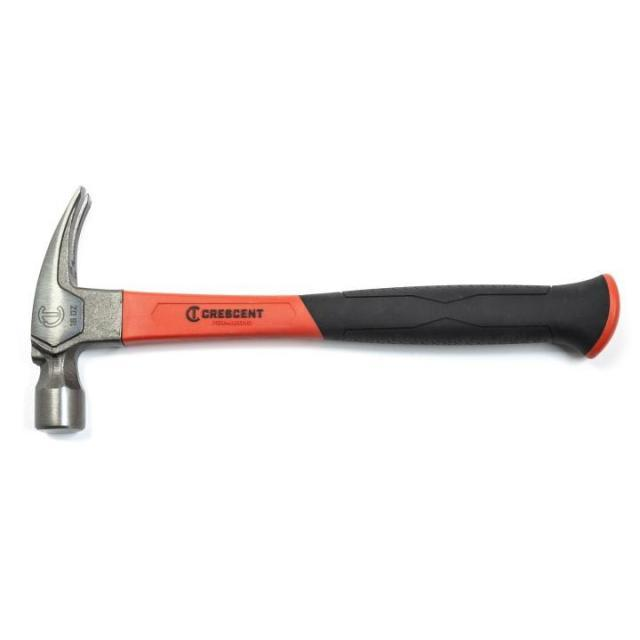hammer: (25, 167, 622, 445)
